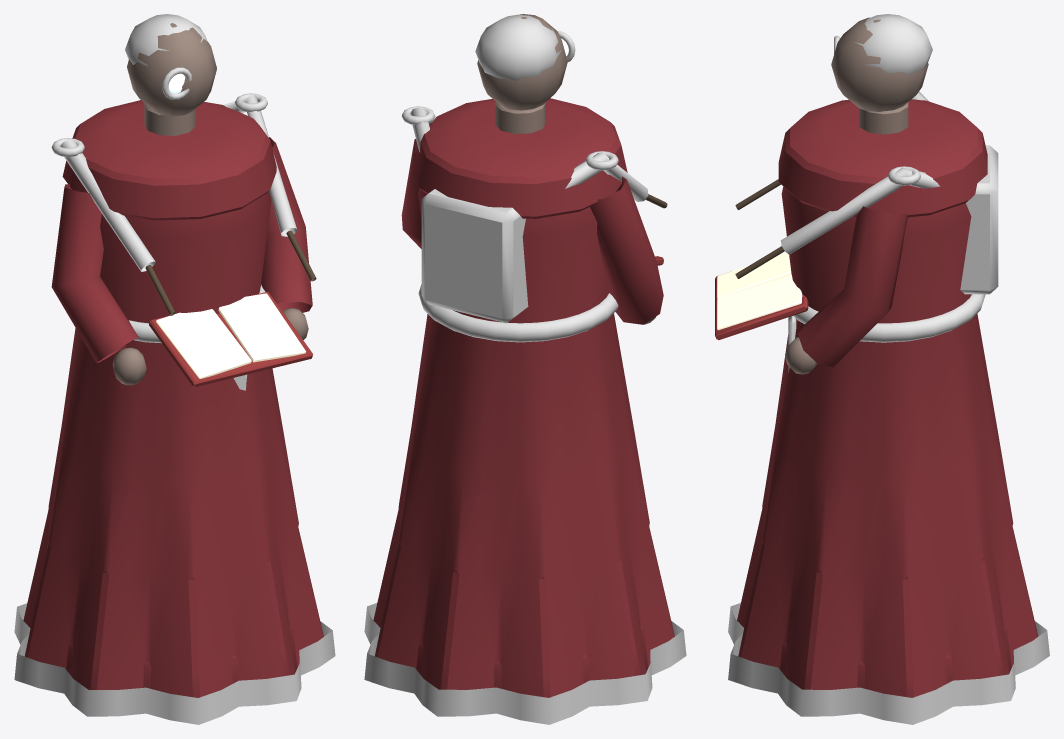
The model's file is crew_scribe.glb.
3 views of the same model, side by side, from view 1: azimuth 30°, elevation 25°; view 2: azimuth 150°, elevation 25°; view 3: azimuth 270°, elevation 25° (orthographic).
Visible parts, largest first — view 1: crew__robe, crew__trim_brass, crew__flesh, crew__parchment, crew__iron_decay, crew__brass_pipe, crew__book_leather, crew__quill; view 2: crew__robe, crew__iron_decay, crew__trim_brass, crew__brass_pipe, crew__flesh; view 3: crew__robe, crew__trim_brass, crew__iron_decay, crew__flesh, crew__parchment, crew__brass_pipe, crew__book_leather, crew__quill.
Boxes of the visible parts, <box> form: crew__robe: <box>23,100,323,697</box>; crew__trim_brass: <box>14,603,335,724</box>; crew__flesh: <box>112,23,308,385</box>; crew__parchment: <box>156,293,305,378</box>; crew__iron_decay: <box>60,95,297,390</box>; crew__brass_pipe: <box>51,14,267,157</box>; crew__book_leather: <box>149,292,312,387</box>; crew__quill: <box>145,230,316,315</box>; crew__robe: <box>373,98,674,697</box>; crew__iron_decay: <box>410,107,648,342</box>; crew__trim_brass: <box>364,603,686,724</box>; crew__brass_pipe: <box>402,14,618,170</box>; crew__flesh: <box>477,14,655,324</box>; crew__robe: <box>737,99,1038,697</box>; crew__trim_brass: <box>728,603,1049,724</box>; crew__iron_decay: <box>780,91,998,373</box>; crew__flesh: <box>785,17,928,374</box>; crew__parchment: <box>717,252,802,330</box>; crew__brass_pipe: <box>834,14,932,185</box>; crew__book_leather: <box>715,275,808,339</box>; crew__quill: <box>735,179,784,278</box>.
Size of the model in its own units: 0.8017 by 1.72 by 0.8215.
